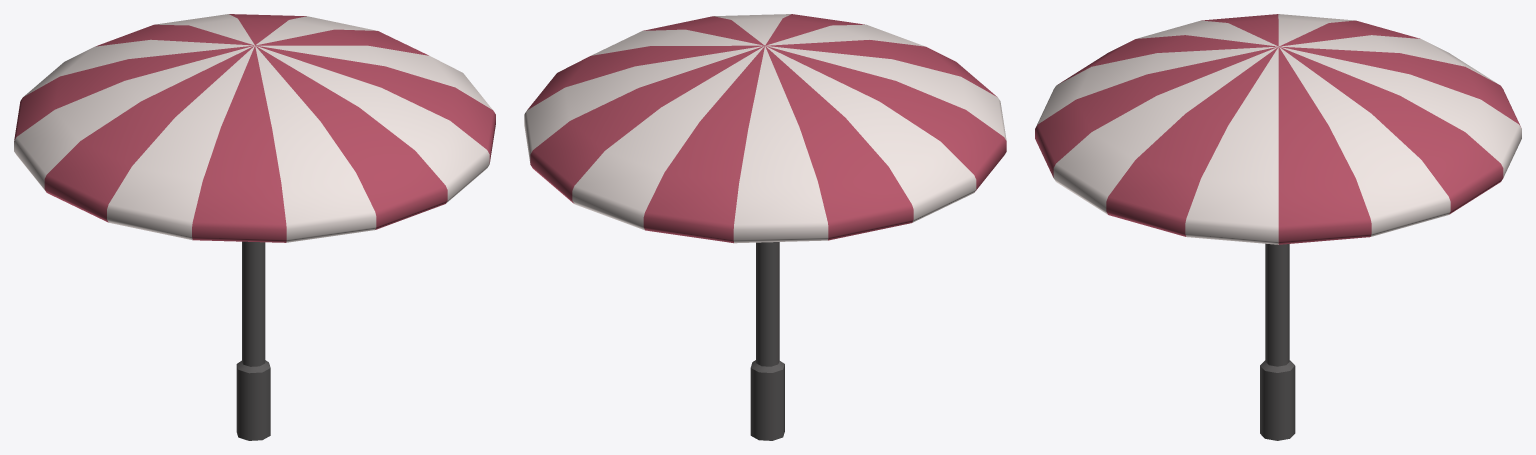
The model's file is umbrella_open.fbx.
3 views of the same model, side by side, from view 1: azimuth 30°, elevation 25°; view 2: azimuth 150°, elevation 25°; view 3: azimuth 270°, elevation 25° (orthographic).
Visible parts, largest first — view 1: umbrella_open; view 2: umbrella_open; view 3: umbrella_open.
Boxes of the visible parts, x1,y1,x2,y2 form: umbrella_open: [14, 14, 495, 440]; umbrella_open: [524, 14, 1006, 440]; umbrella_open: [1035, 14, 1521, 440].
Bounding box in the file's own units: 420 × 420 × 369.
